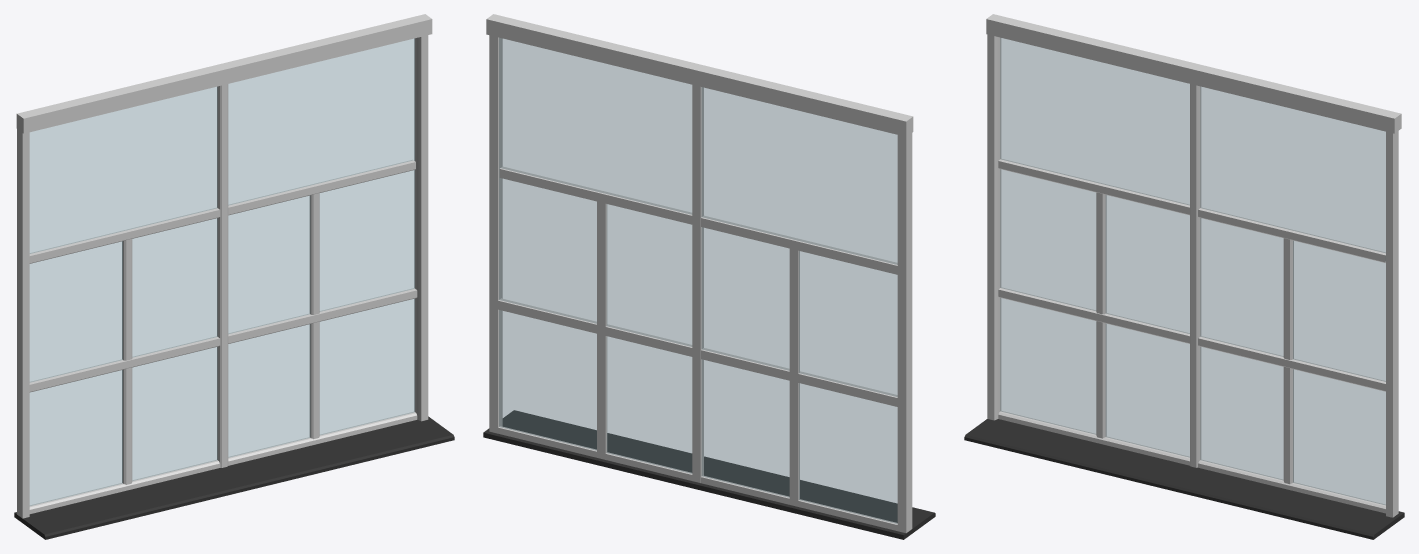
The model's file is LivingRoomWin01.FBX.
The picture shows the model from 3 angles, left to right: view 1: azimuth 30°, elevation 25°; view 2: azimuth 150°, elevation 25°; view 3: azimuth 330°, elevation 25°; orthographic projection. The views are drawn at different scales.
Visible parts, largest first — view 1: LivingRoomWin01; view 2: LivingRoomWin01; view 3: LivingRoomWin01.
Part boxes in pixels (<box>): LivingRoomWin01: <box>14,14,454,539</box>; LivingRoomWin01: <box>483,14,935,539</box>; LivingRoomWin01: <box>964,14,1404,539</box>.
Size of the model in its own units: 196 by 25.79 by 186.
